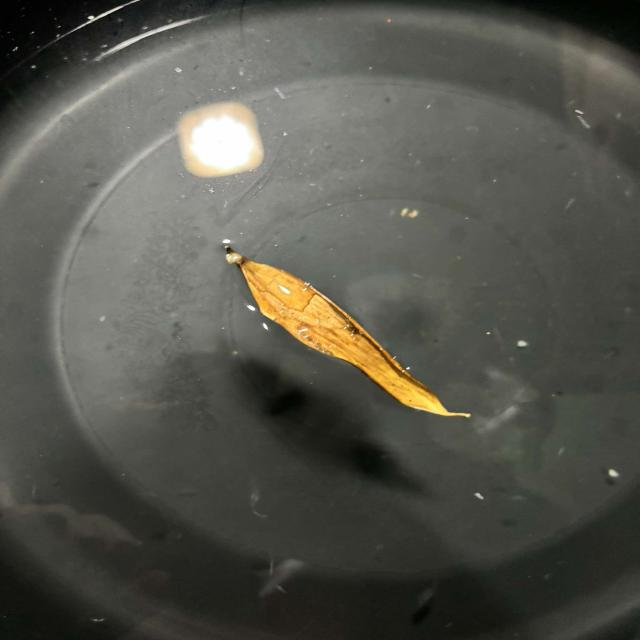Leaf: (200, 226, 490, 444)
